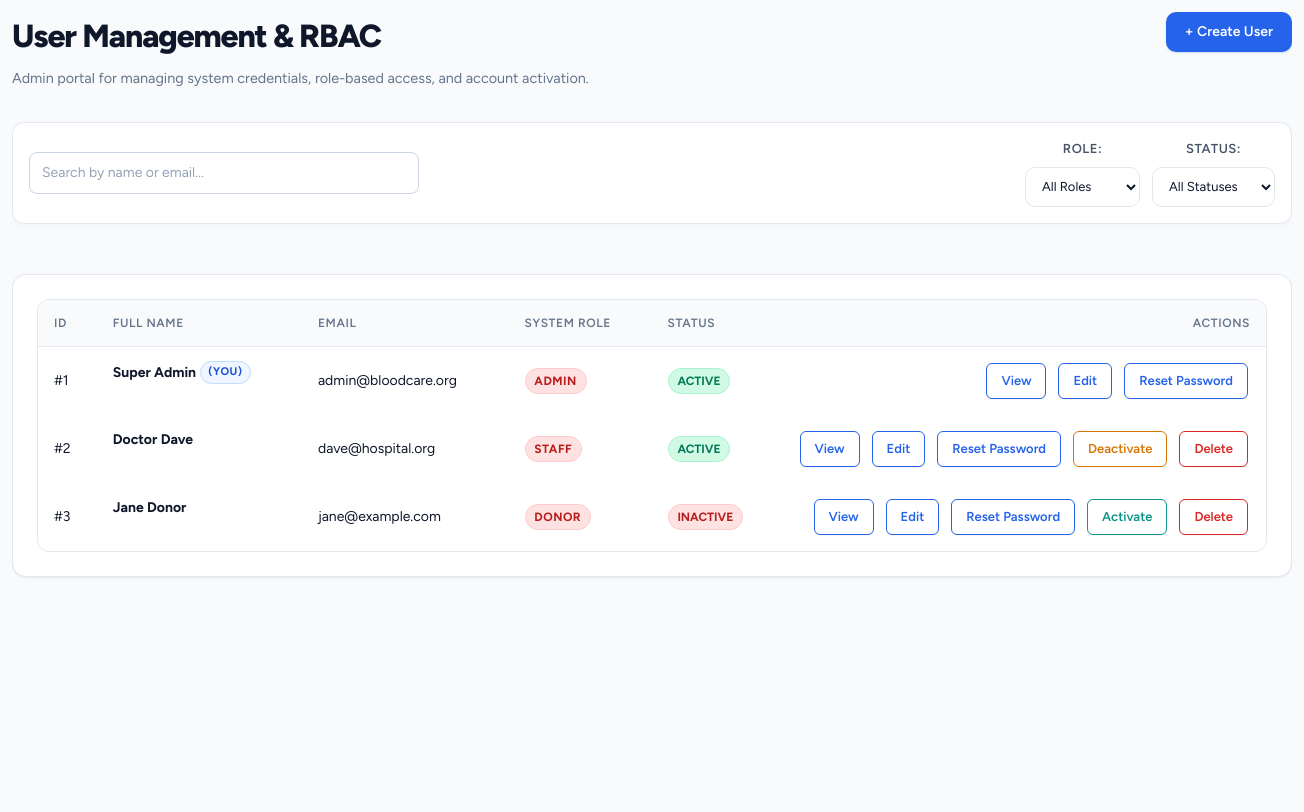
Scenario: Users Page Component › toggles user active status directly via button
What coordinates should you click on to do the following:
click the button with test id "btn-toggle-status-3"
I would click on:
 (1127, 517)
Its box is top-left (1087, 499), bottom-right (1167, 535).
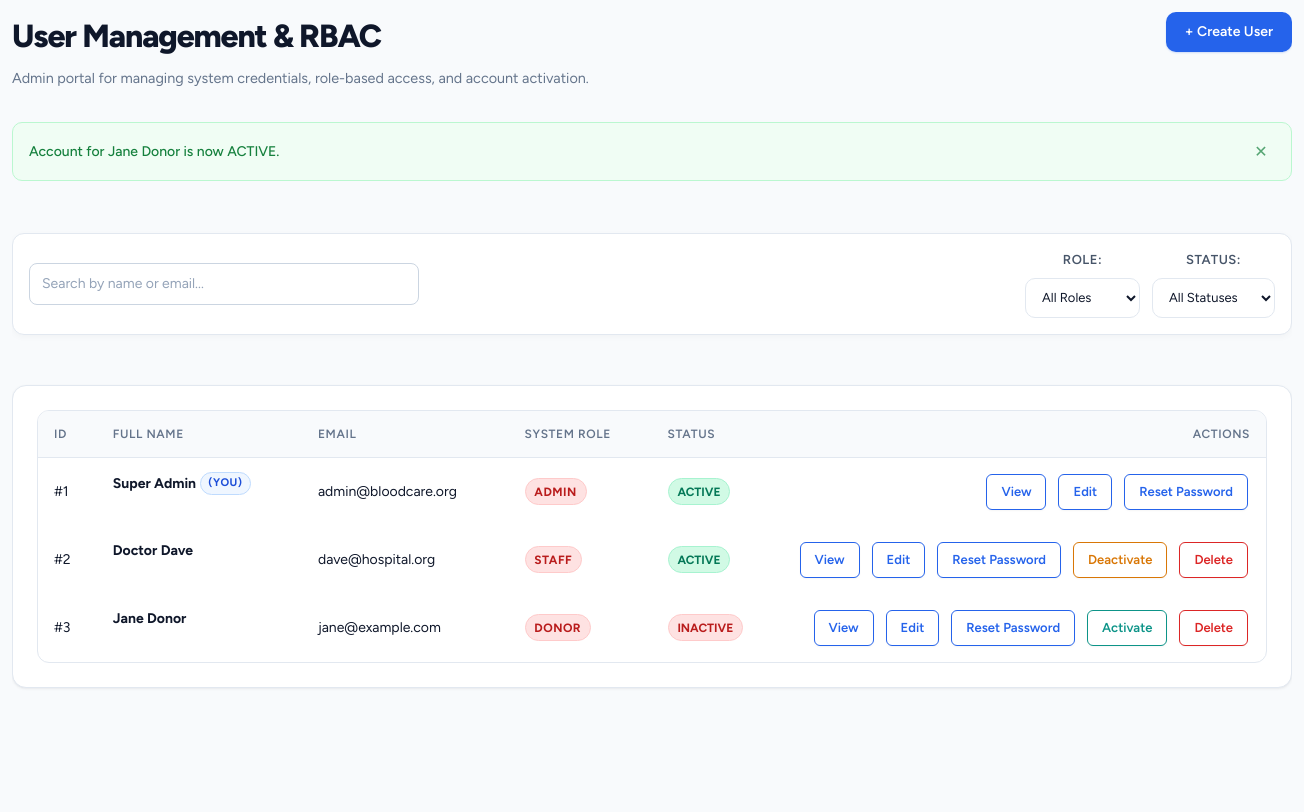
Result: the element with test id "feedback-banner" shows "Account for Jane Donor is now ACTIVE" at top-left (29, 143), bottom-right (279, 160)
